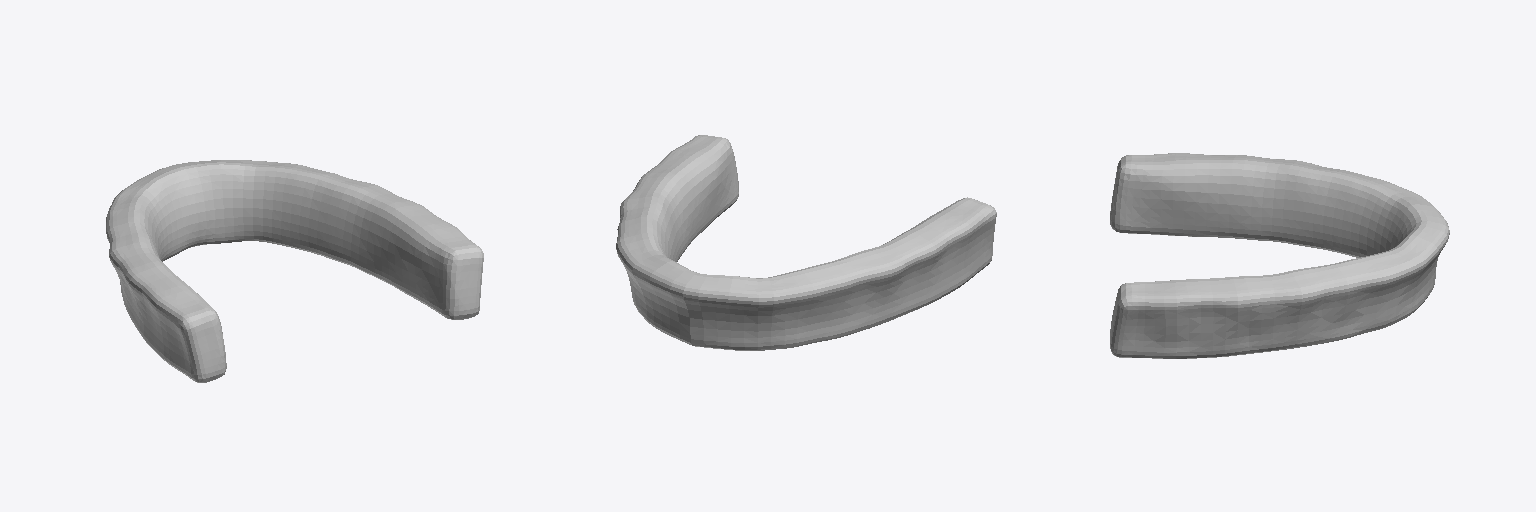
Rendered from lower_bone.obj.
3 renders of one model, left to right at view 1: azimuth 30°, elevation 25°; view 2: azimuth 150°, elevation 25°; view 3: azimuth 270°, elevation 25°, orthographic.
Visible parts, largest first — view 1: lower_bone1; view 2: lower_bone1; view 3: lower_bone1.
Part boxes in pixels (bbox=[...]): lower_bone1: bbox=[106, 160, 483, 382]; lower_bone1: bbox=[616, 135, 996, 350]; lower_bone1: bbox=[1110, 153, 1449, 358].
Bounding box in the file's own units: 0.1188 × 0.0276 × 0.1151.